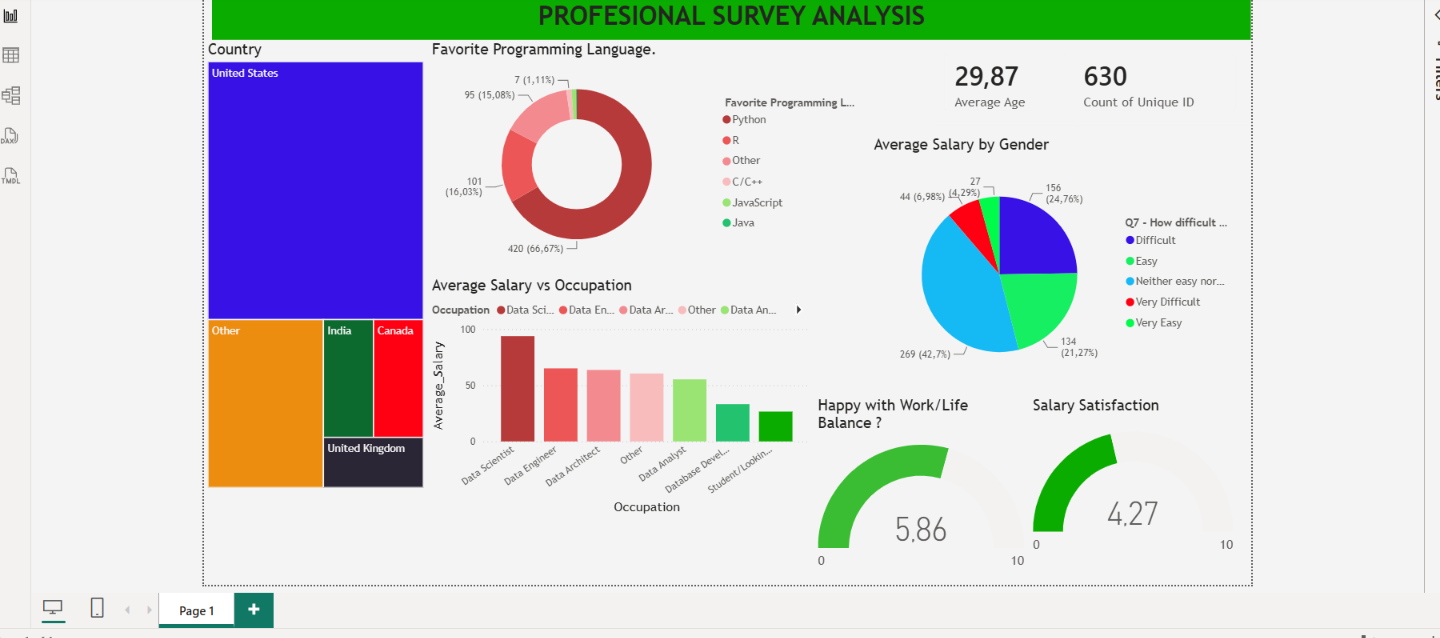

What the dashboard file says about the page in this screenshot:
{"tool":"powerbi","page":{"name":"Page 1","canvas":[1280,720],"ordinal":0},"visuals":[{"type":"textbox","box":[9.6,0,1270.7,53.5],"z":0},{"type":"cardVisual","fields":{"Data":["CountNonNull(Data Professional Survey.Unique ID)"]},"box":[1045.6,53.5,234.6,104.3],"z":1},{"type":"cardVisual","fields":{"Data":["Avg(Data Professional Survey.Q10 - Current Age)"]},"box":[887.8,53.5,183.9,104.3],"z":2},{"type":"columnChart","title":"Average Salary vs Occupation","fields":{"Category":["Data Professional Survey.Q1 - Which Title Best Fits your Current Role?.1"],"Y":["Avg(Data Professional Survey.Average_Salary)"],"Series":["Data Professional Survey.Q1 - Which Title Best Fits your Current Role?.1"]},"box":[273.4,341.8,473,295.6],"z":3},{"type":"donutChart","title":" Favorite Programming Language.","fields":{"Category":["Data Professional Survey.Q5 - Favorite Programming Language.1"],"Y":["CountNonNull(Data Professional Survey.Unique ID)"]},"box":[273.4,53.6,532.1,282.7],"z":4},{"type":"treemap","title":"Country","fields":{"Group":["Data Professional Survey.Q11 - Which Country do you live in?.1"],"Values":["Sum(Data Professional Survey.Average_Salary)"]},"box":[0,53.6,273.4,552.4],"z":5},{"type":"gauge","title":"Happy with Work/Life Balance ?","fields":{"Y":["Avg(Data Professional Survey.Q6 - How Happy are you in your Current Position with the following? (Coworkers))"],"MinValue":["Min(Data Professional Survey.Q6 - How Happy are you in your Current Position with the following? (Coworkers))1"],"MaxValue":["Max(Data Professional Survey.Q6 - How Happy are you in your Current Position with the following? (Coworkers))"]},"box":[746.4,489.6,262.4,230.9],"z":6},{"type":"gauge","title":"Salary Satisfaction ","fields":{"Y":["Avg(Data Professional Survey.Q6 - How Happy are you in your Current Position with the following? (Salary))"],"MinValue":["Min(Data Professional Survey.Q6 - How Happy are you in your Current Position with the following? (Salary))"],"MaxValue":["Max(Data Professional Survey.Q6 - How Happy are you in your Current Position with the following? (Salary))"]},"box":[1008.8,489.6,255,216.2],"z":7},{"type":"pieChart","title":"Average Salary by Gender","fields":{"Y":["CountNonNull(Data Professional Survey.Q7 - How difficult was it for you to break into Data?)"],"Series":["Data Professional Survey.Q7 - How difficult was it for you to break into Data?"]},"box":[814.8,170,449,319.6],"z":8}]}

Visuals, with their boxes on the page's 1280x720 design canvas (x1, y1, x2, y2). These are canvas units, not pixel positions in the 1440x638 screenshot, which may show the page scaled, cropped or inside an application window:
textbox: (left=10, top=0, right=1280, bottom=54)
cardVisual - CountNonNull(Data Professional Survey.Unique ID): (left=1046, top=54, right=1280, bottom=158)
cardVisual - Avg(Data Professional Survey.Q10 - Current Age): (left=888, top=54, right=1072, bottom=158)
"Average Salary vs Occupation" columnChart: (left=273, top=342, right=746, bottom=637)
" Favorite Programming Language." donutChart: (left=273, top=54, right=806, bottom=336)
"Country" treemap: (left=0, top=54, right=273, bottom=606)
"Happy with Work/Life Balance ?" gauge: (left=746, top=490, right=1009, bottom=720)
"Salary Satisfaction " gauge: (left=1009, top=490, right=1264, bottom=706)
"Average Salary by Gender" pieChart: (left=815, top=170, right=1264, bottom=490)
